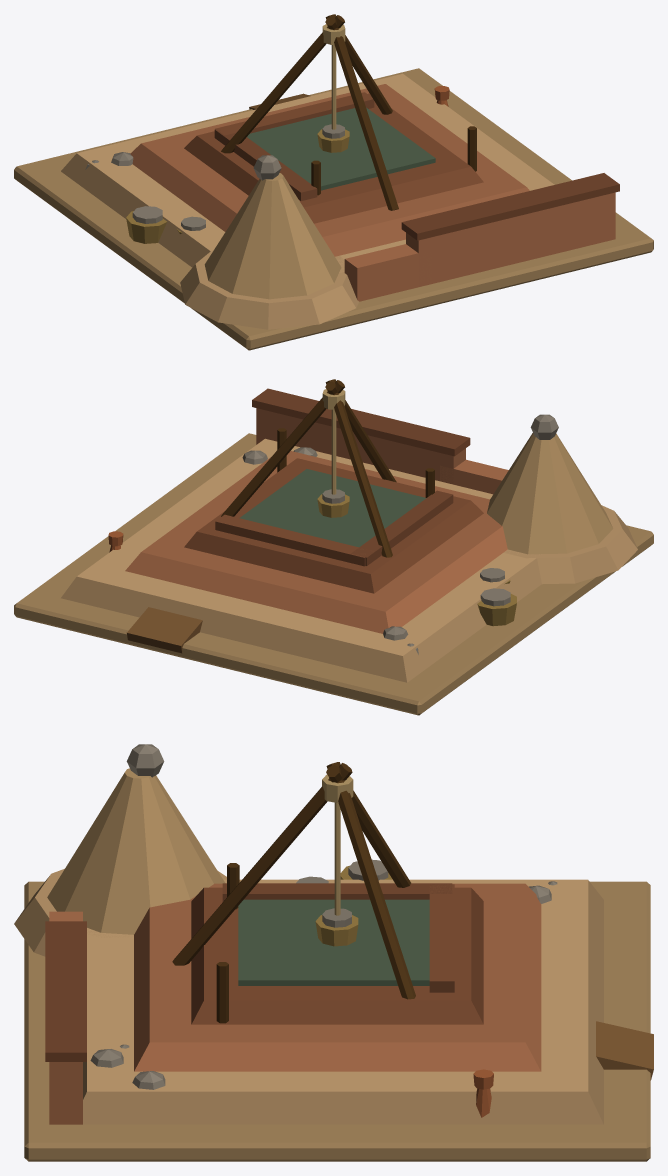
Rendered from river_clay_pit.glb.
3 renders of one model, top to bottom at view 1: azimuth 30°, elevation 25°; view 2: azimuth 150°, elevation 25°; view 3: azimuth 270°, elevation 25°, orthographic. The views are drawn at different scales.
Visible parts, largest first — view 1: river_clay_pit_earth_pack, river_clay_pit_mud_terra, river_clay_pit_mud_tan, river_clay_pit_mud_dark, river_clay_pit_channel_water, river_clay_pit_wood_dark, river_clay_pit_clay_grey, river_clay_pit_thatch_dark, river_clay_pit_rope_tan; view 2: river_clay_pit_earth_pack, river_clay_pit_mud_tan, river_clay_pit_mud_terra, river_clay_pit_mud_dark, river_clay_pit_channel_water, river_clay_pit_wood_dark, river_clay_pit_clay_grey, river_clay_pit_wood_mid, river_clay_pit_thatch_dark, river_clay_pit_rope_tan; view 3: river_clay_pit_earth_pack, river_clay_pit_mud_tan, river_clay_pit_mud_terra, river_clay_pit_mud_dark, river_clay_pit_channel_water, river_clay_pit_wood_dark, river_clay_pit_clay_grey, river_clay_pit_wood_mid, river_clay_pit_rope_tan, river_clay_pit_thatch_dark, river_clay_pit_pottery.
Part boxes in pixels (bbox=[...]): river_clay_pit_earth_pack: bbox=[14, 68, 653, 350]; river_clay_pit_mud_terra: bbox=[130, 84, 615, 301]; river_clay_pit_mud_tan: bbox=[61, 73, 554, 329]; river_clay_pit_mud_dark: bbox=[184, 92, 619, 240]; river_clay_pit_channel_water: bbox=[247, 107, 435, 190]; river_clay_pit_wood_dark: bbox=[221, 14, 476, 210]; river_clay_pit_clay_grey: bbox=[85, 124, 344, 230]; river_clay_pit_thatch_dark: bbox=[126, 129, 349, 243]; river_clay_pit_rope_tan: bbox=[322, 24, 345, 129]; river_clay_pit_earth_pack: bbox=[14, 433, 653, 715]; river_clay_pit_mud_tan: bbox=[61, 438, 637, 682]; river_clay_pit_mud_terra: bbox=[125, 408, 508, 633]; river_clay_pit_mud_dark: bbox=[184, 388, 483, 593]; river_clay_pit_channel_water: bbox=[239, 469, 426, 547]; river_clay_pit_wood_dark: bbox=[221, 379, 434, 557]; river_clay_pit_clay_grey: bbox=[242, 414, 558, 654]; river_clay_pit_wood_mid: bbox=[127, 607, 202, 653]; river_clay_pit_thatch_dark: bbox=[317, 494, 516, 626]; river_clay_pit_rope_tan: bbox=[322, 389, 345, 494]; river_clay_pit_earth_pack: bbox=[24, 768, 650, 1161]; river_clay_pit_mud_tan: bbox=[14, 868, 603, 1124]; river_clay_pit_mud_terra: bbox=[49, 883, 541, 1124]; river_clay_pit_mud_dark: bbox=[45, 883, 483, 1061]; river_clay_pit_channel_water: bbox=[238, 899, 429, 985]; river_clay_pit_wood_dark: bbox=[172, 762, 415, 1023]; river_clay_pit_clay_grey: bbox=[90, 744, 557, 1089]; river_clay_pit_wood_mid: bbox=[596, 1021, 653, 1080]; river_clay_pit_rope_tan: bbox=[322, 774, 353, 915]; river_clay_pit_thatch_dark: bbox=[315, 865, 392, 946]; river_clay_pit_pottery: bbox=[473, 1069, 493, 1117].
Bounding box in the file's own units: 3.09 × 1.41 × 3.07.
